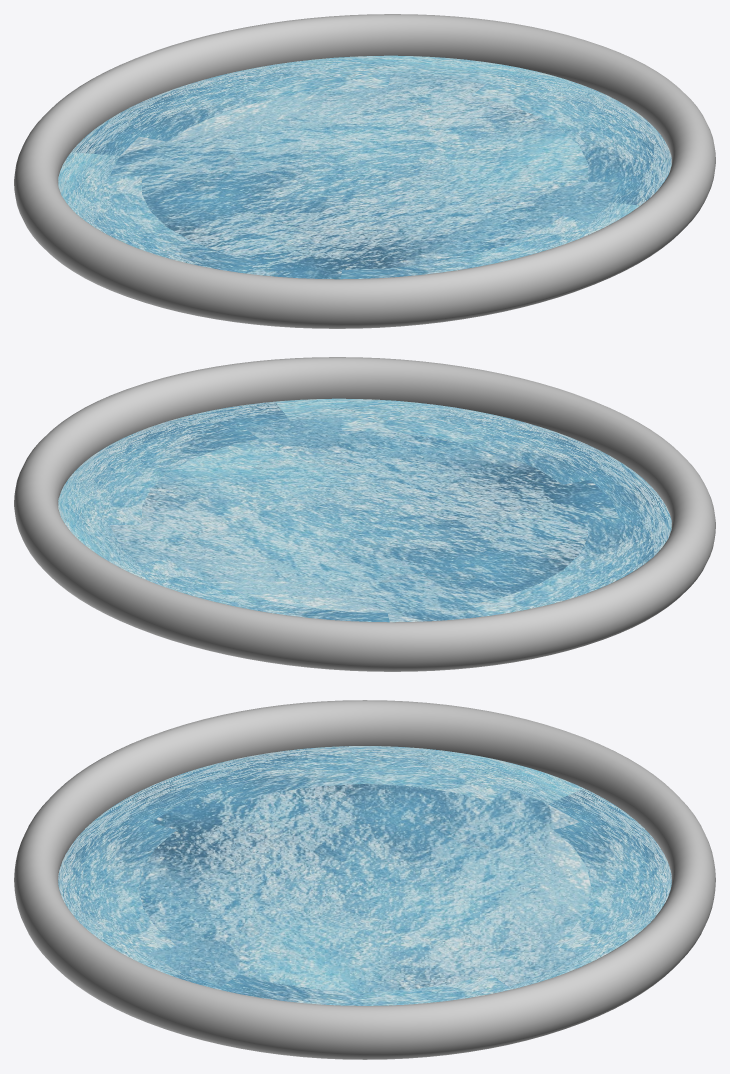
File: Pool.fbx
3 renders of one model, top to bottom at view 1: azimuth 30°, elevation 25°; view 2: azimuth 150°, elevation 25°; view 3: azimuth 270°, elevation 25°, orthographic. The views are drawn at different scales.
Parts seen in each view (by area): view 1: Sphere.001, Torus.001; view 2: Sphere.001, Torus.001; view 3: Sphere.001, Torus.001.
Boxes of the visible parts, left/top/right/bottom form: Sphere.001: left=58, top=55, right=671, bottom=279; Torus.001: left=14, top=14, right=715, bottom=328; Sphere.001: left=58, top=398, right=671, bottom=622; Torus.001: left=14, top=357, right=715, bottom=671; Sphere.001: left=58, top=746, right=671, bottom=1005; Torus.001: left=14, top=700, right=715, bottom=1059.
Size of the model in its own units: 34.98 by 2.5 by 31.8.
